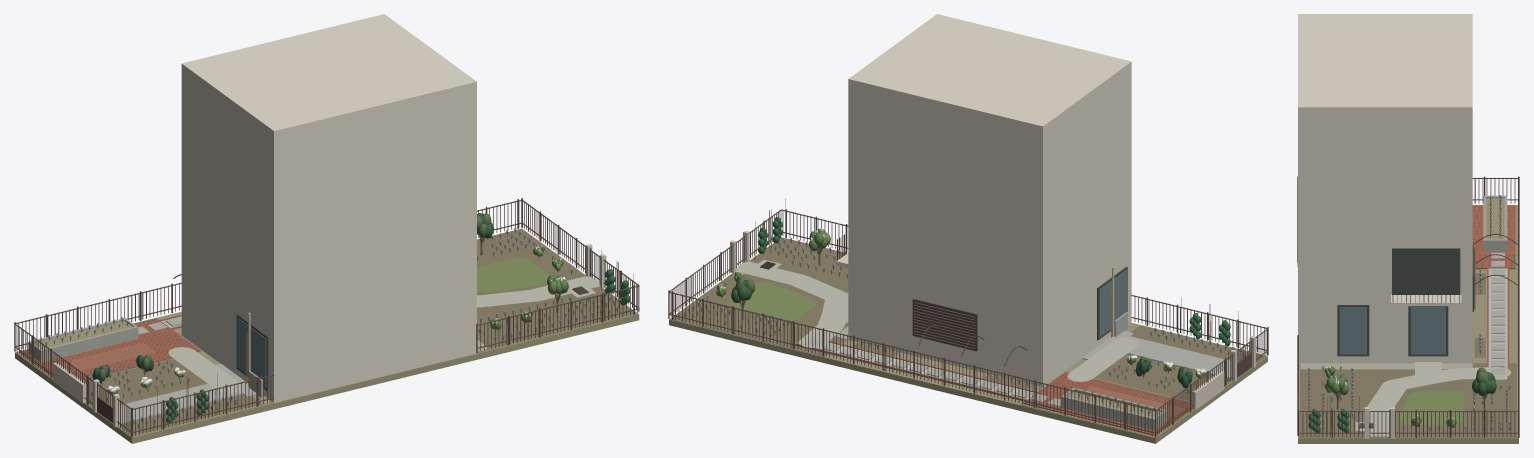
File: design-B-year1.glb
The picture shows the model from 3 angles, left to right: view 1: azimuth 30°, elevation 25°; view 2: azimuth 150°, elevation 25°; view 3: azimuth 270°, elevation 25°; orthographic projection. The views are drawn at different scales.
Parts seen in each view (by area): view 1: Unsurveyed_Building_Mass, Boundary_Fences_Approximate_metal, R0_Flat_Datum, Proposed_Planting_Beds_And_Mulch, S-west-border, Footprint_Proxy_Unsurveyed, Red_Brick_Joints_Indicative_brick, N-woodland, S-lawn, S-east-border, Grey_Access_Route_Approximate, N-connection_New_Warm_Grey_Paving (+8 smaller); view 2: Unsurveyed_Building_Mass, Boundary_Fences_Approximate_metal, R0_Flat_Datum, Proposed_Planting_Beds_And_Mulch, S-east-border, Red_Brick_Joints_Indicative_brick, Footprint_Proxy_Unsurveyed, S-main_New_Warm_Grey_Paving, N-woodland, S-lawn, S-west-border, Wall_Services_Visible_Proxies_dark (+13 smaller); view 3: Unsurveyed_Building_Mass, Visible_bare_Openings_dark, Proposed_Planting_Beds_And_Mulch, Boundary_Fences_Approximate_metal, Visible_bare_Openings_glass, R0_Flat_Datum, S-east-border, S-west-border, S-main_New_Warm_Grey_Paving, S-lawn, Zone_3_Steps_And_Gravel_slab, Footprint_Proxy_Unsurveyed (+17 smaller).
Boxes of the visible parts, <box> form: Unsurveyed_Building_Mass: <box>181,14,476,394</box>; Boundary_Fences_Approximate_metal: <box>14,198,639,437</box>; R0_Flat_Datum: <box>15,231,639,443</box>; Proposed_Planting_Beds_And_Mulch: <box>83,229,636,435</box>; S-west-border: <box>477,292,632,346</box>; Footprint_Proxy_Unsurveyed: <box>181,327,476,402</box>; Red_Brick_Joints_Indicative_brick: <box>20,318,200,379</box>; N-woodland: <box>85,360,196,403</box>; S-lawn: <box>477,257,550,292</box>; S-east-border: <box>477,230,581,279</box>; Grey_Access_Route_Approximate: <box>112,383,242,423</box>; N-connection_New_Warm_Grey_Paving: <box>168,347,242,392</box>; Unsurveyed_Building_Mass: <box>848,14,1131,378</box>; Boundary_Fences_Approximate_metal: <box>668,209,1268,437</box>; R0_Flat_Datum: <box>669,243,1267,443</box>; Proposed_Planting_Beds_And_Mulch: <box>673,237,1263,401</box>; S-east-border: <box>676,274,790,341</box>; Red_Brick_Joints_Indicative_brick: <box>1023,371,1191,434</box>; Footprint_Proxy_Unsurveyed: <box>848,314,1131,387</box>; S-main_New_Warm_Grey_Paving: <box>735,261,848,322</box>; N-woodland: <box>1096,359,1211,398</box>; S-lawn: <box>729,282,815,321</box>; S-west-border: <box>757,239,848,280</box>; Wall_Services_Visible_Proxies_dark: <box>912,298,977,351</box>; Unsurveyed_Building_Mass: <box>1298,14,1472,355</box>; Visible_bare_Openings_dark: <box>1337,248,1460,356</box>; Proposed_Planting_Beds_And_Mulch: <box>1300,363,1516,436</box>; Boundary_Fences_Approximate_metal: <box>1297,176,1519,437</box>; Visible_bare_Openings_glass: <box>1339,307,1445,354</box>; R0_Flat_Datum: <box>1298,270,1518,443</box>; S-east-border: <box>1397,389,1514,435</box>; S-west-border: <box>1302,370,1354,435</box>; S-main_New_Warm_Grey_Paving: <box>1367,362,1441,436</box>; S-lawn: <box>1397,390,1463,424</box>; Zone_3_Steps_And_Gravel_slab: <box>1491,252,1504,374</box>; Footprint_Proxy_Unsurveyed: <box>1299,355,1472,363</box>.
Size of what is drawn, in the model's own units: 25.22 by 13.1 by 10.06.
